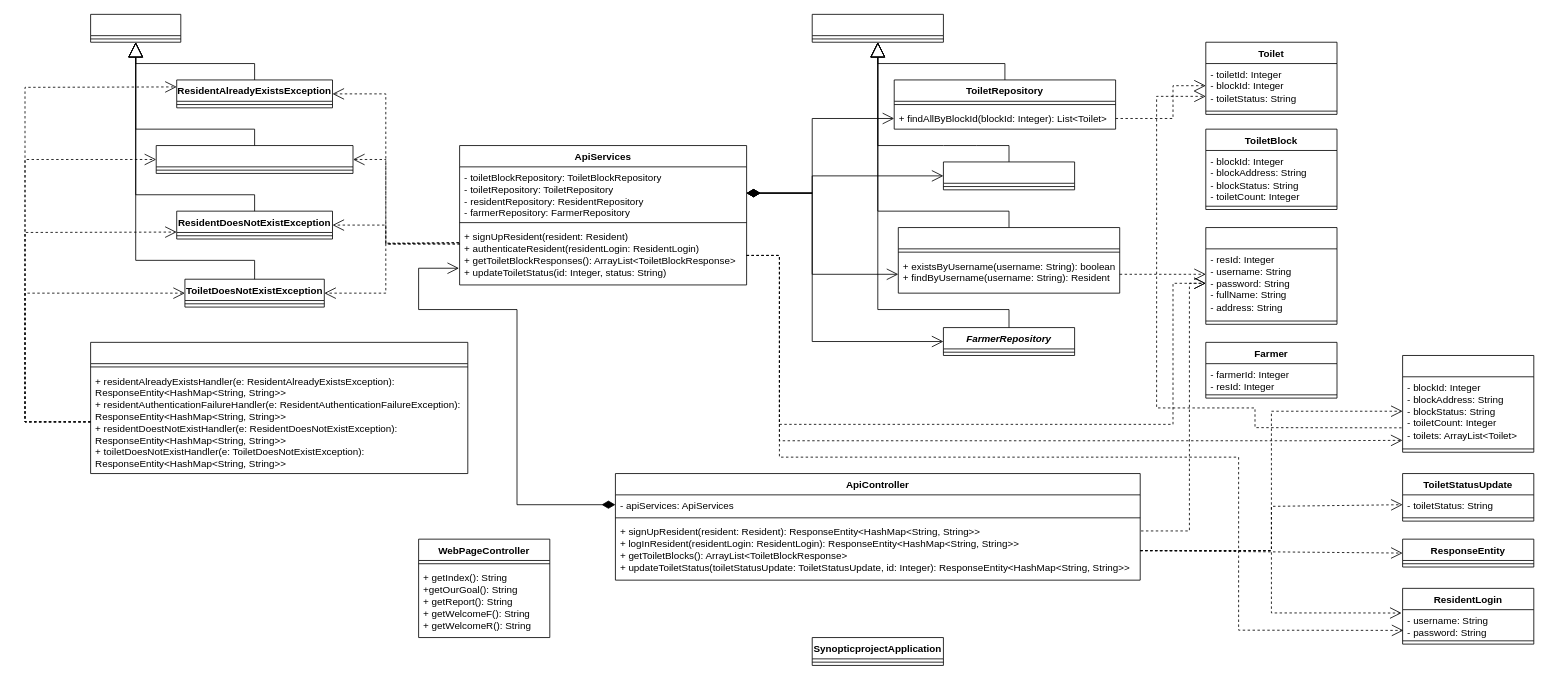
The diagram is 1548 pixels wide and 680 high, and some of its shapes have lost their labels. Each missing label, with the box of its shape:
GlobalRestControllerExceptionHandler: (90, 342, 468, 474)
JpaRepository: (811, 14, 943, 42)
Resident: (1205, 227, 1337, 324)
ResidentAuthenticationFailureException: (155, 145, 353, 173)
ResidentRepository: (897, 227, 1120, 293)
RuntimeException: (90, 14, 181, 42)
ToiletBlockRepository: (943, 161, 1075, 190)
ToiletBlockResponse: (1402, 355, 1534, 452)
